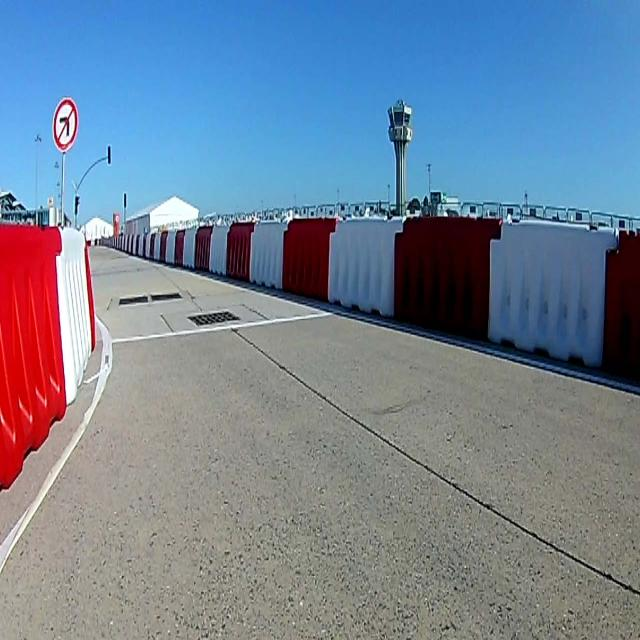soladonulmez: (53, 98, 77, 150)
